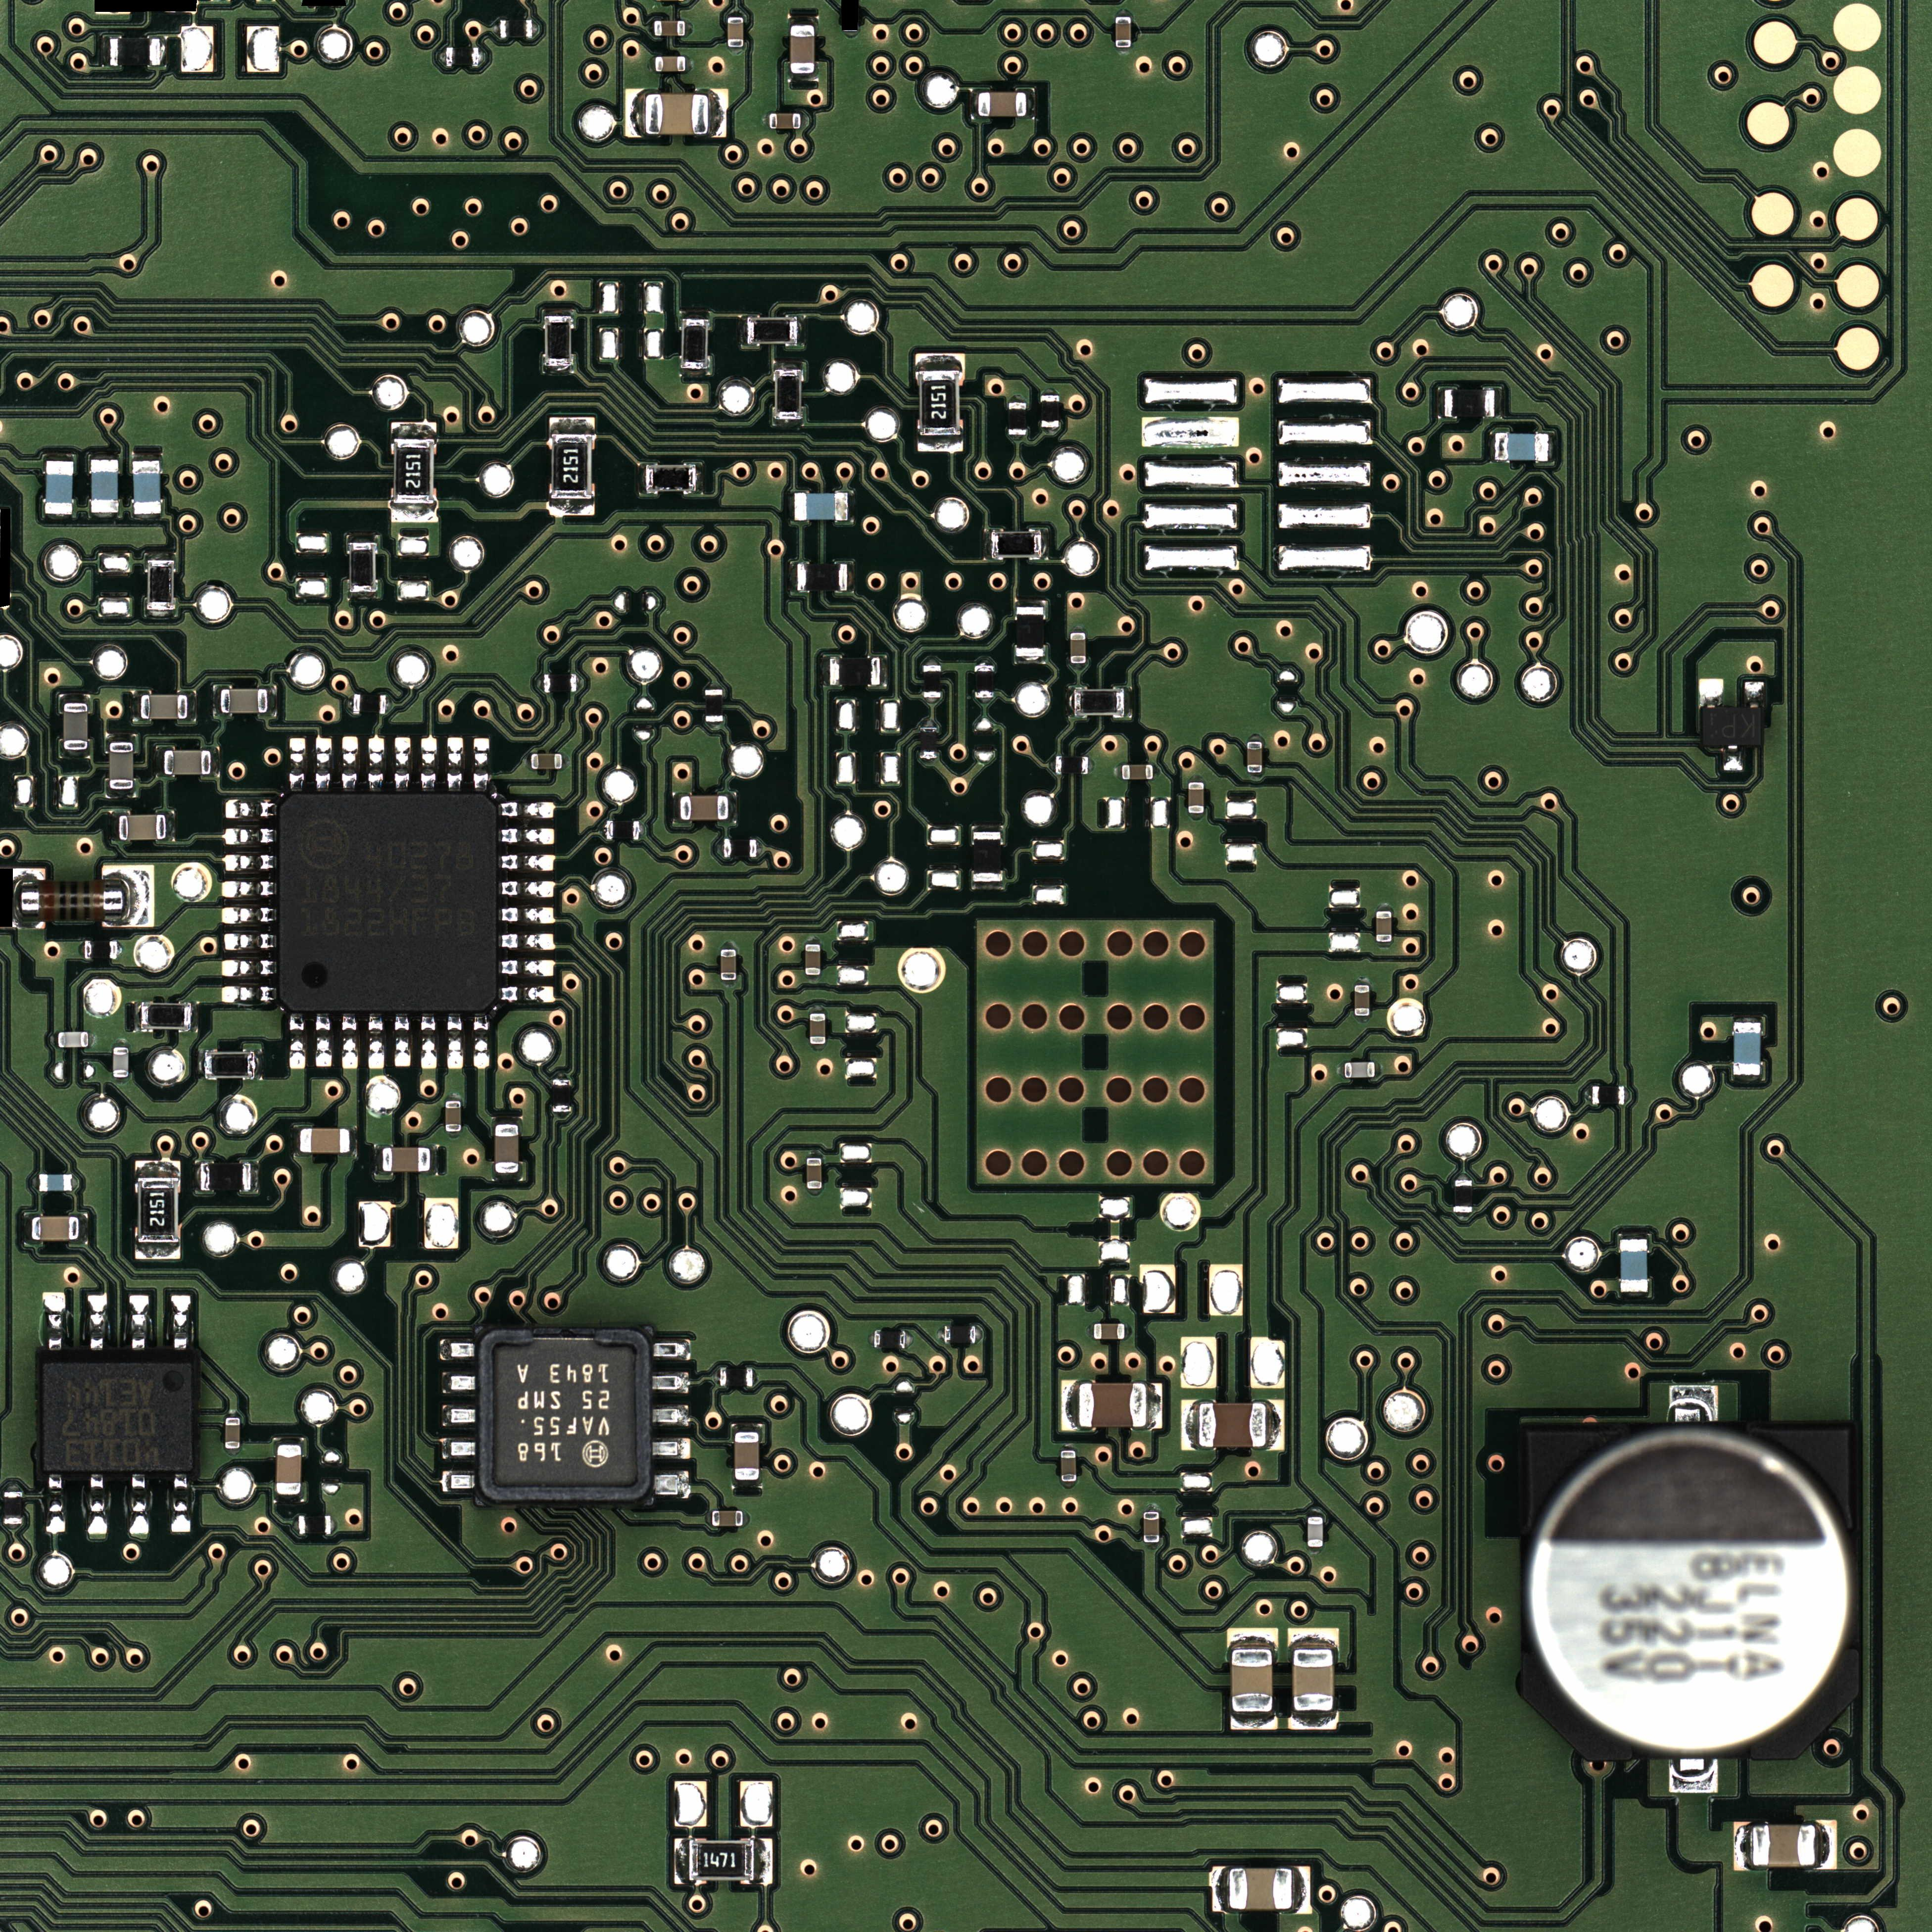Package: (1520, 1422, 1861, 1759), (278, 793, 497, 1012), (478, 1334, 649, 1495), (41, 1362, 195, 1472), (12, 879, 133, 925), (1200, 1403, 1267, 1447), (1079, 1384, 1146, 1426), (393, 439, 435, 504), (918, 372, 961, 435), (688, 1840, 754, 1881), (1753, 1824, 1815, 1867), (552, 435, 593, 499), (138, 1178, 179, 1242), (1231, 1649, 1272, 1713), (1293, 1649, 1334, 1711), (646, 94, 708, 134), (1230, 1868, 1292, 1909), (1702, 708, 1762, 745), (133, 460, 161, 515), (1495, 433, 1548, 462), (90, 460, 119, 513), (1444, 389, 1495, 418), (200, 1162, 251, 1191), (1734, 1023, 1760, 1076), (794, 494, 847, 520), (46, 462, 73, 515), (1016, 607, 1044, 656), (110, 37, 159, 65), (973, 832, 1001, 881), (830, 658, 879, 686), (1621, 1240, 1647, 1292), (748, 317, 796, 345), (142, 1003, 191, 1030), (798, 564, 847, 591), (646, 465, 695, 492), (545, 317, 571, 366), (205, 1051, 255, 1077), (775, 370, 801, 419), (993, 531, 1040, 557), (119, 814, 166, 840), (301, 1129, 350, 1154), (734, 1431, 759, 1481), (350, 543, 375, 593), (149, 561, 173, 610), (1074, 690, 1123, 715), (276, 1445, 301, 1495), (683, 318, 708, 368), (681, 796, 729, 821), (978, 92, 1026, 117), (221, 688, 267, 713), (165, 750, 211, 775), (32, 1217, 80, 1240), (495, 1125, 518, 1173), (64, 702, 87, 750), (791, 25, 814, 73), (382, 1148, 430, 1171), (110, 743, 133, 789), (142, 695, 188, 718), (720, 1368, 754, 1387), (724, 839, 757, 858), (1040, 395, 1060, 428), (4, 1491, 23, 1525), (354, 694, 386, 713), (607, 821, 639, 840), (446, 48, 478, 67), (543, 674, 577, 692), (1054, 755, 1088, 773), (1008, 402, 1026, 435), (706, 690, 724, 722), (1454, 1180, 1472, 1212), (1592, 1086, 1624, 1104), (85, 941, 117, 959), (874, 1330, 906, 1348), (920, 727, 938, 759), (501, 19, 533, 37), (975, 665, 993, 697), (924, 665, 941, 697), (552, 1079, 570, 1111), (299, 1516, 331, 1534), (39, 1175, 73, 1191), (1093, 1323, 1125, 1339), (1189, 782, 1205, 814), (1122, 764, 1154, 780), (531, 754, 563, 770), (770, 113, 801, 129), (446, 1100, 462, 1132), (225, 1417, 241, 1449), (727, 18, 743, 48), (720, 950, 736, 980), (1376, 911, 1392, 941), (58, 1031, 88, 1047), (713, 1511, 743, 1527), (810, 1014, 826, 1044), (945, 1327, 975, 1343), (1307, 1516, 1323, 1546), (1345, 1062, 1375, 1077), (1070, 633, 1086, 663), (805, 945, 821, 975), (113, 1047, 129, 1077), (1247, 741, 1261, 773), (807, 1157, 821, 1189), (1355, 985, 1369, 1016), (655, 57, 685, 71), (1145, 1513, 1159, 1543), (655, 21, 685, 35), (1062, 1451, 1076, 1481), (1116, 18, 1131, 48)
Solder: (1668, 1384, 1718, 1422), (1668, 1757, 1718, 1792), (42, 1292, 65, 1350), (134, 865, 156, 927), (87, 1476, 108, 1536), (170, 1474, 191, 1532), (129, 1476, 149, 1537), (46, 1476, 65, 1534), (1288, 1628, 1339, 1649), (129, 1295, 149, 1350), (653, 1470, 690, 1499), (1815, 1821, 1836, 1870), (172, 1295, 191, 1348), (288, 1014, 306, 1070), (499, 959, 556, 977), (499, 985, 556, 1003), (88, 1293, 106, 1350), (472, 1014, 490, 1070), (225, 800, 276, 819), (221, 985, 276, 1003), (501, 801, 556, 819), (446, 1014, 464, 1069), (221, 959, 276, 977), (1228, 1628, 1277, 1647), (625, 88, 644, 138), (315, 1014, 333, 1067), (1734, 1822, 1753, 1870), (225, 932, 276, 950), (499, 934, 556, 950), (421, 1014, 437, 1070), (709, 88, 727, 138), (1267, 1401, 1284, 1451), (221, 881, 276, 897), (221, 908, 276, 924), (501, 908, 556, 924), (395, 736, 410, 791), (501, 855, 556, 870), (501, 881, 556, 897), (341, 1014, 357, 1069), (448, 736, 464, 791), (315, 736, 331, 791), (368, 1014, 384, 1069), (755, 1838, 773, 1886), (341, 736, 357, 789), (290, 738, 306, 791), (223, 828, 276, 844), (501, 828, 554, 844), (1293, 1867, 1311, 1914), (395, 1014, 410, 1067), (1290, 1713, 1338, 1730), (368, 736, 384, 789), (474, 738, 490, 791), (421, 736, 437, 789), (651, 1438, 690, 1460), (1182, 1399, 1198, 1451), (1062, 1380, 1077, 1431), (223, 855, 274, 870), (391, 504, 437, 522), (1231, 1713, 1277, 1730), (134, 1161, 180, 1178), (391, 421, 437, 439), (915, 354, 964, 370), (442, 1437, 476, 1460), (653, 1405, 688, 1426), (916, 437, 962, 453), (548, 501, 594, 517), (134, 1244, 180, 1260), (548, 418, 594, 433), (1212, 1867, 1228, 1913), (1146, 1384, 1162, 1430), (653, 1373, 690, 1392), (442, 1405, 476, 1426), (1698, 679, 1723, 708), (441, 1373, 476, 1392), (653, 1341, 690, 1359), (441, 1339, 474, 1359), (442, 1472, 476, 1491), (674, 1838, 688, 1884), (1744, 681, 1764, 708), (1723, 745, 1743, 771), (787, 73, 819, 83), (58, 750, 90, 759), (133, 690, 142, 722), (131, 451, 163, 460), (88, 451, 120, 460), (796, 315, 805, 347), (773, 419, 805, 428), (541, 366, 573, 375), (188, 690, 196, 722), (971, 881, 1003, 890), (543, 308, 575, 317), (1065, 686, 1074, 718), (166, 810, 175, 840), (274, 1437, 304, 1445), (492, 1173, 522, 1182), (106, 789, 136, 798), (1123, 688, 1132, 718), (679, 310, 709, 318), (787, 16, 817, 25), (729, 793, 738, 823), (267, 686, 276, 717), (274, 1495, 304, 1504), (110, 812, 119, 842), (879, 656, 888, 686), (970, 88, 978, 119), (60, 694, 90, 702), (211, 747, 219, 777), (1026, 88, 1035, 119), (133, 1001, 142, 1031), (773, 361, 803, 370), (430, 1145, 439, 1175), (679, 368, 709, 377), (695, 464, 704, 494), (156, 747, 165, 777), (637, 464, 646, 494), (212, 686, 221, 717), (196, 1049, 205, 1079), (23, 1214, 32, 1244), (732, 1422, 761, 1431), (251, 1161, 258, 1194), (347, 593, 379, 600), (971, 824, 1003, 832), (347, 534, 379, 541), (1619, 1231, 1651, 1238), (1619, 1292, 1651, 1299), (145, 610, 177, 617), (672, 793, 679, 824), (1548, 432, 1555, 464), (131, 515, 163, 522), (740, 315, 747, 347), (1437, 387, 1444, 419), (1488, 432, 1495, 464), (193, 1161, 200, 1192), (1016, 600, 1046, 607), (106, 734, 136, 741), (1495, 387, 1502, 418), (375, 1145, 382, 1175), (145, 552, 175, 559), (732, 1481, 763, 1488), (191, 1001, 198, 1031), (789, 563, 796, 593), (984, 529, 991, 559), (492, 1116, 522, 1123), (44, 453, 74, 460), (1016, 656, 1046, 663), (823, 656, 830, 686), (847, 492, 855, 522), (255, 1049, 262, 1079), (161, 37, 168, 67), (44, 515, 74, 522), (787, 492, 794, 522), (294, 1125, 301, 1155), (1732, 1016, 1762, 1023), (1732, 1074, 1762, 1081), (847, 563, 855, 591), (350, 1127, 357, 1155), (80, 1214, 87, 1242), (103, 37, 110, 65), (552, 1111, 571, 1120), (437, 48, 446, 67), (437, 48, 446, 67), (492, 19, 501, 39), (533, 19, 541, 39), (4, 1483, 23, 1491), (4, 1523, 23, 1532), (639, 821, 648, 840), (1042, 529, 1047, 559), (88, 513, 119, 518), (1375, 1062, 1384, 1079), (685, 19, 694, 37), (727, 9, 745, 18), (706, 722, 724, 731), (975, 697, 993, 706), (1336, 1062, 1345, 1079), (331, 1514, 338, 1536), (1154, 764, 1162, 780), (1154, 764, 1162, 780), (1113, 764, 1122, 780), (1307, 1507, 1323, 1516), (292, 1516, 299, 1536), (479, 48, 487, 67), (1040, 428, 1060, 435), (78, 939, 85, 959), (117, 939, 124, 959), (32, 1173, 39, 1192), (32, 1173, 39, 1192), (73, 1173, 80, 1192), (552, 1072, 571, 1079), (717, 839, 724, 858), (757, 839, 764, 858), (704, 683, 724, 690), (1454, 1173, 1474, 1180), (713, 1368, 720, 1385), (1624, 1086, 1631, 1104), (975, 1325, 982, 1343), (1143, 1504, 1161, 1511), (1375, 941, 1392, 948), (920, 720, 938, 727), (1187, 814, 1205, 821), (1008, 395, 1026, 402), (1454, 1212, 1472, 1219), (1585, 1086, 1592, 1104), (386, 695, 393, 713), (577, 674, 584, 692), (1008, 433, 1026, 441), (1042, 387, 1060, 395), (536, 674, 543, 692), (600, 821, 607, 839), (924, 658, 941, 665), (924, 699, 941, 706), (975, 658, 993, 665), (1049, 755, 1056, 773), (906, 1330, 913, 1348), (1187, 775, 1205, 782), (1355, 977, 1369, 985), (1143, 1543, 1161, 1550), (810, 1044, 826, 1051), (1247, 773, 1263, 780), (1247, 734, 1263, 741), (810, 1007, 826, 1014), (801, 113, 809, 129), (88, 1031, 96, 1047), (805, 975, 821, 982), (686, 57, 694, 73), (225, 1449, 241, 1456), (743, 1511, 750, 1527), (648, 57, 655, 73), (1088, 757, 1095, 773), (648, 19, 655, 35), (446, 1132, 462, 1139), (1115, 48, 1131, 55), (805, 938, 821, 945), (1376, 904, 1392, 911), (763, 113, 770, 129), (51, 1031, 58, 1047), (113, 1040, 129, 1047), (1070, 663, 1086, 671), (113, 1077, 129, 1085), (446, 1093, 462, 1100), (938, 1327, 945, 1343), (727, 48, 743, 55), (563, 754, 570, 770), (524, 754, 531, 770), (225, 1410, 241, 1417), (1070, 626, 1086, 633), (807, 1152, 823, 1159), (807, 1189, 823, 1196), (704, 1511, 711, 1527), (867, 1330, 874, 1346), (842, 30, 858, 37), (347, 694, 352, 713), (1062, 1444, 1076, 1451), (1355, 1016, 1369, 1023), (920, 759, 938, 764), (754, 1369, 759, 1387), (1125, 1323, 1131, 1339), (1088, 1323, 1093, 1339), (1307, 1548, 1323, 1553), (1115, 11, 1131, 16), (1115, 11, 1131, 16), (1062, 1483, 1077, 1488), (720, 945, 736, 948), (720, 980, 736, 984)
